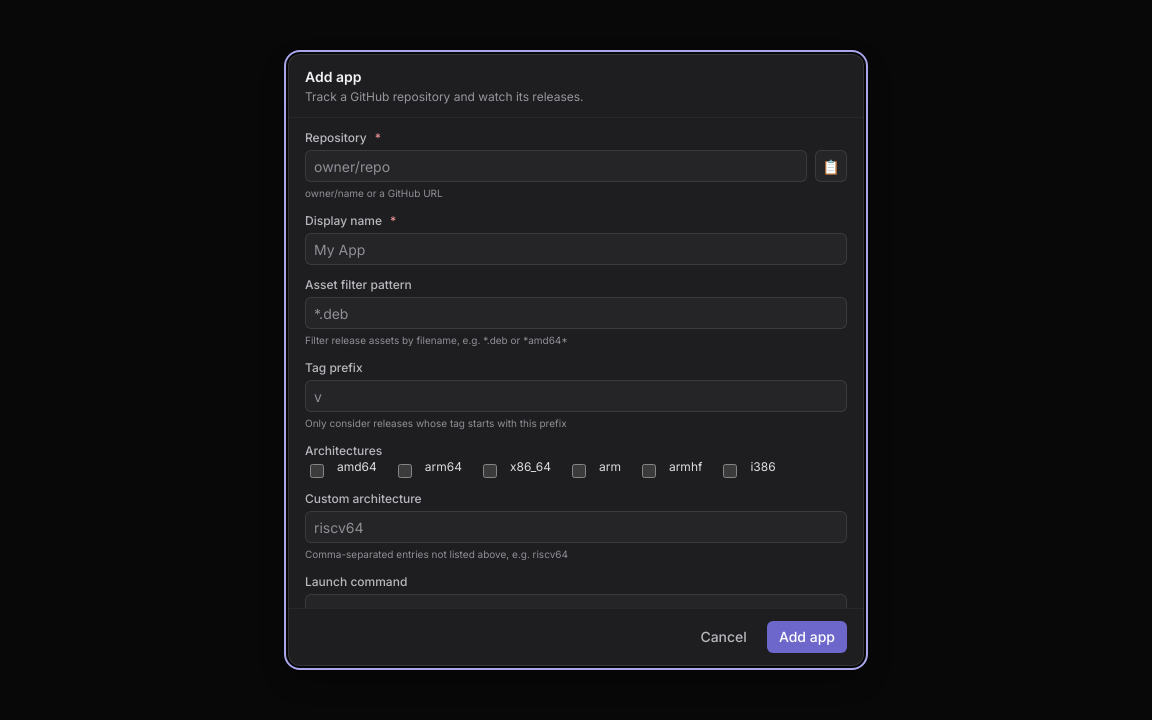
AddAppDialog › pastes a repository reference from the clipboard
The image size is (1152, 720).
Click the button named "Paste from clipboard". click: (831, 166)
box: [815,150,847,182]
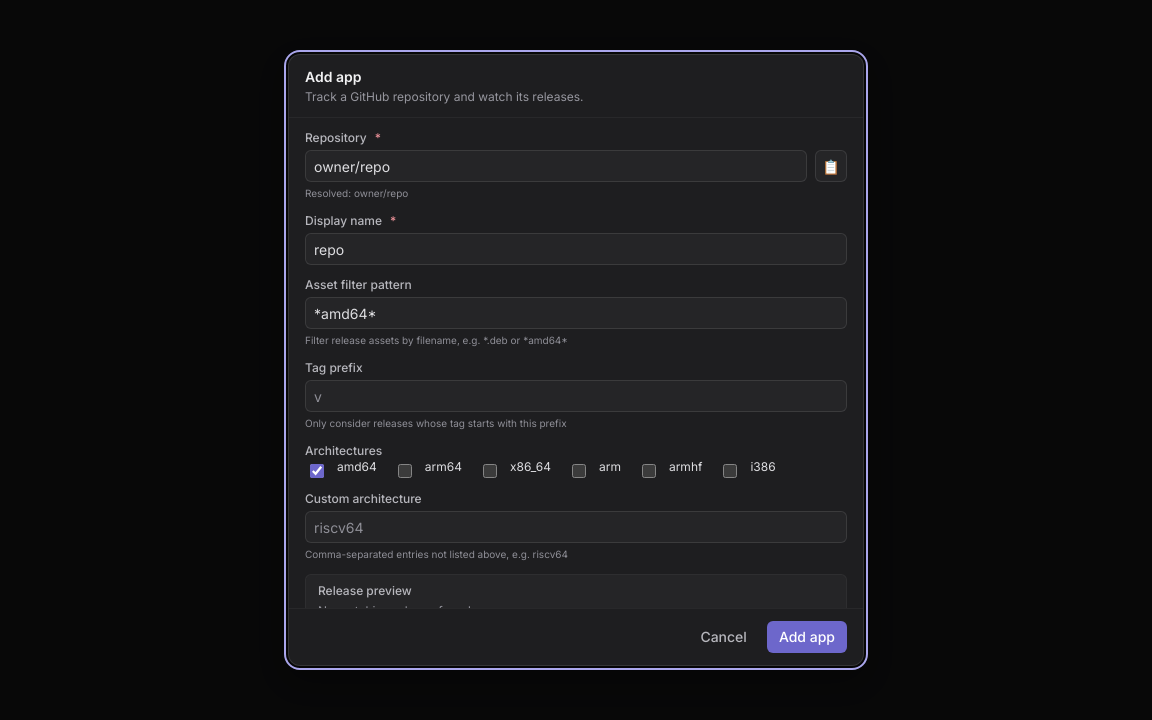
Check: the field labelled "Repository" holds "owner/repo", box [305,150,807,182]
Check: the text "Resolved: owner/repo" is shown, box [305,187,408,199]
